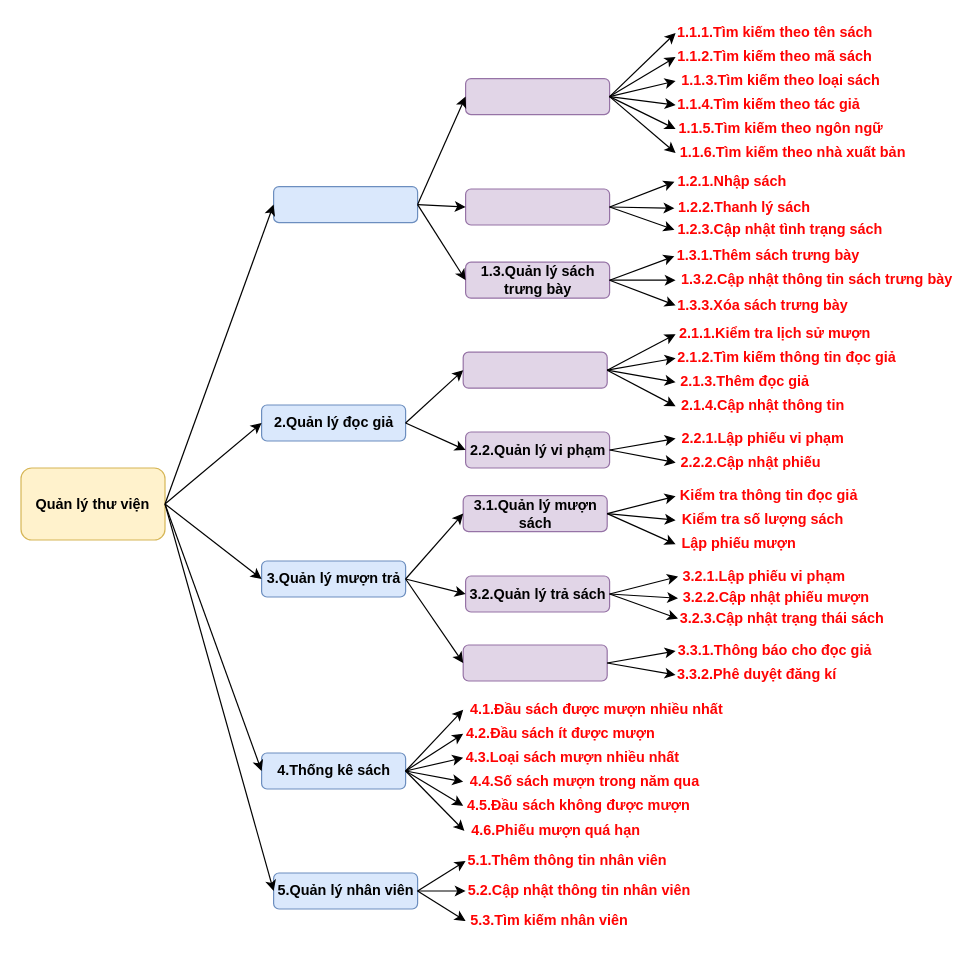
Image size: 978x953. Some labels were removed from this diagram. The box of each missing label's shape, as (x1, y1, x2, y2) in pixels:
1.1.Tra cứu sách: (464, 77, 610, 115)
1.2.Quản lý kho sách: (464, 188, 610, 225)
1.Quản lý sách: (272, 185, 418, 223)
2.1.Quản lý thông tin đọc giả: (462, 351, 607, 388)
3.3.Quản lý đăng kí mượn: (462, 644, 607, 681)
